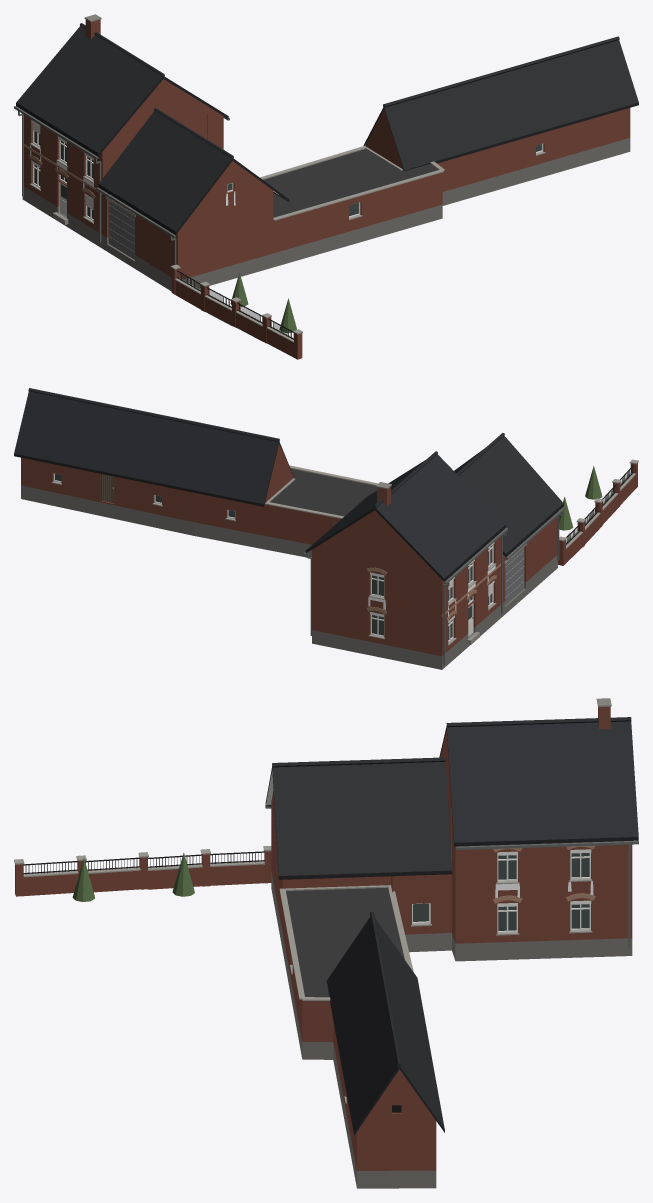
Rendered from vh_old_farm.glb.
3 renders of one model, top to bottom at view 1: azimuth 30°, elevation 25°; view 2: azimuth 150°, elevation 25°; view 3: azimuth 270°, elevation 25°, orthographic. The views are drawn at different scales.
Visible parts, largest first — view 1: vh_roof, vh_brick, vh_trim, vh_stone, vh_frames_small, vh_metal_small, vh_glass, vh_hedge; view 2: vh_roof, vh_brick, vh_trim, vh_stone, vh_frames_small, vh_glass, vh_hedge, vh_metal_small; view 3: vh_roof, vh_brick, vh_stone, vh_trim, vh_frames_small, vh_glass, vh_metal_small, vh_hedge.
Part boxes in pixels (x1,y1,x2,y2): vh_roof: [16, 23, 638, 231]; vh_brick: [24, 19, 630, 359]; vh_trim: [16, 76, 638, 291]; vh_stone: [24, 14, 545, 342]; vh_frames_small: [14, 106, 543, 264]; vh_metal_small: [66, 201, 293, 339]; vh_glass: [34, 131, 541, 218]; vh_hedge: [230, 272, 296, 333]; vh_roof: [14, 388, 563, 578]; vh_brick: [21, 443, 637, 656]; vh_trim: [14, 441, 563, 669]; vh_stone: [51, 459, 638, 645]; vh_frames_small: [53, 473, 565, 665]; vh_glass: [55, 474, 491, 639]; vh_hedge: [559, 465, 602, 530]; vh_metal_small: [112, 465, 633, 618]; vh_roof: [272, 717, 638, 1131]; vh_brick: [15, 707, 632, 1170]; vh_stone: [14, 698, 611, 1103]; vh_trim: [265, 726, 638, 1188]; vh_frames_small: [265, 805, 638, 948]; vh_glass: [413, 853, 589, 930]; vh_metal_small: [23, 851, 264, 874]; vh_hedge: [72, 852, 194, 901].
Size of the model in its own units: 36.22 by 11.33 by 29.83.
